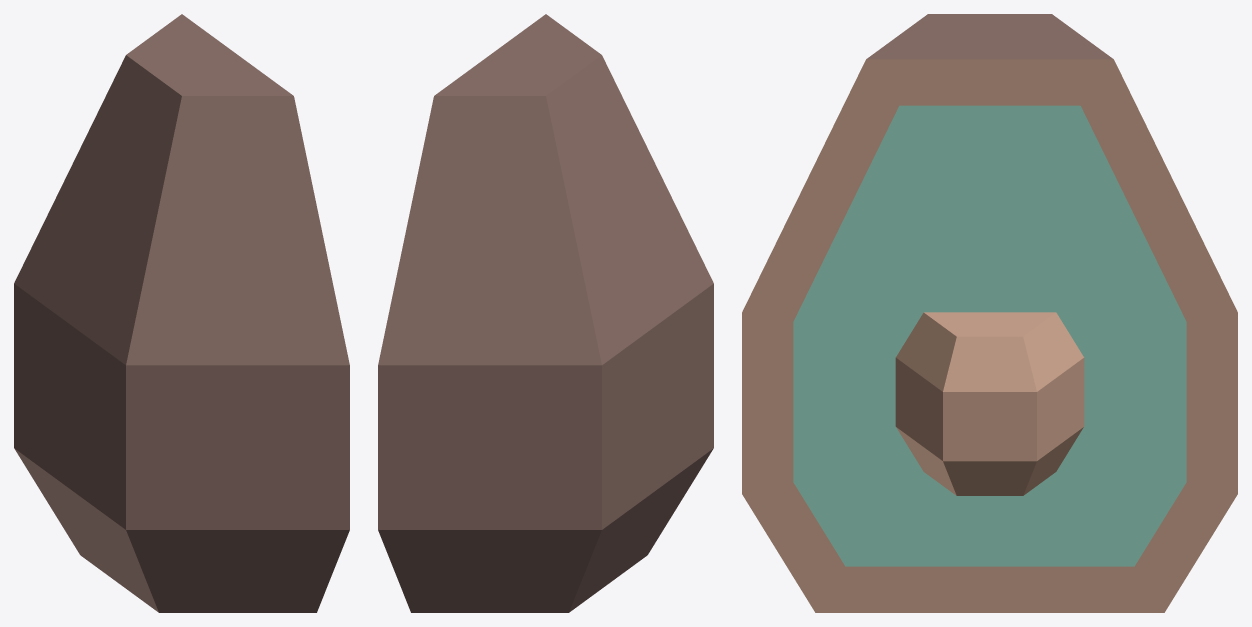
The model's file is avocadoHalf.fbx.
3 views of the same model, side by side, from view 1: azimuth 30°, elevation 25°; view 2: azimuth 150°, elevation 25°; view 3: azimuth 270°, elevation 25° (orthographic). The views are drawn at different scales.
Parts seen in each view (by area): view 1: avocadoHalf; view 2: avocadoHalf; view 3: avocadoHalf.
Boxes of the visible parts, x1,y1,x2,y2 form: avocadoHalf: [14, 14, 349, 612]; avocadoHalf: [378, 14, 713, 612]; avocadoHalf: [742, 14, 1237, 612].
Bounding box in the file's own units: 10.36 × 21.37 × 17.34.
